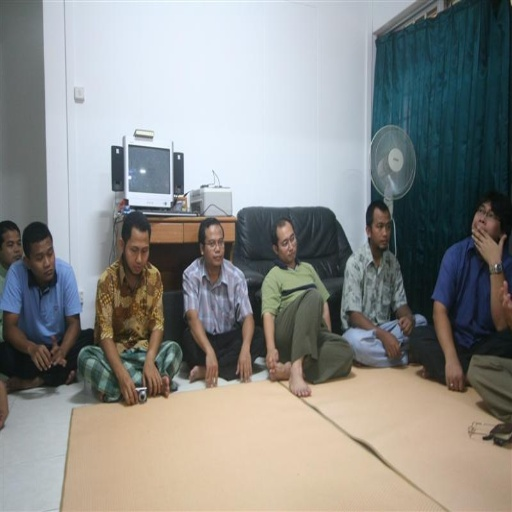hand: (471, 222, 507, 267), (140, 361, 163, 396), (444, 355, 465, 393), (27, 343, 53, 372), (234, 348, 253, 383), (119, 373, 138, 406), (496, 281, 511, 322), (49, 334, 67, 368), (384, 332, 403, 361), (204, 351, 218, 388), (397, 315, 415, 339), (264, 346, 279, 367)
